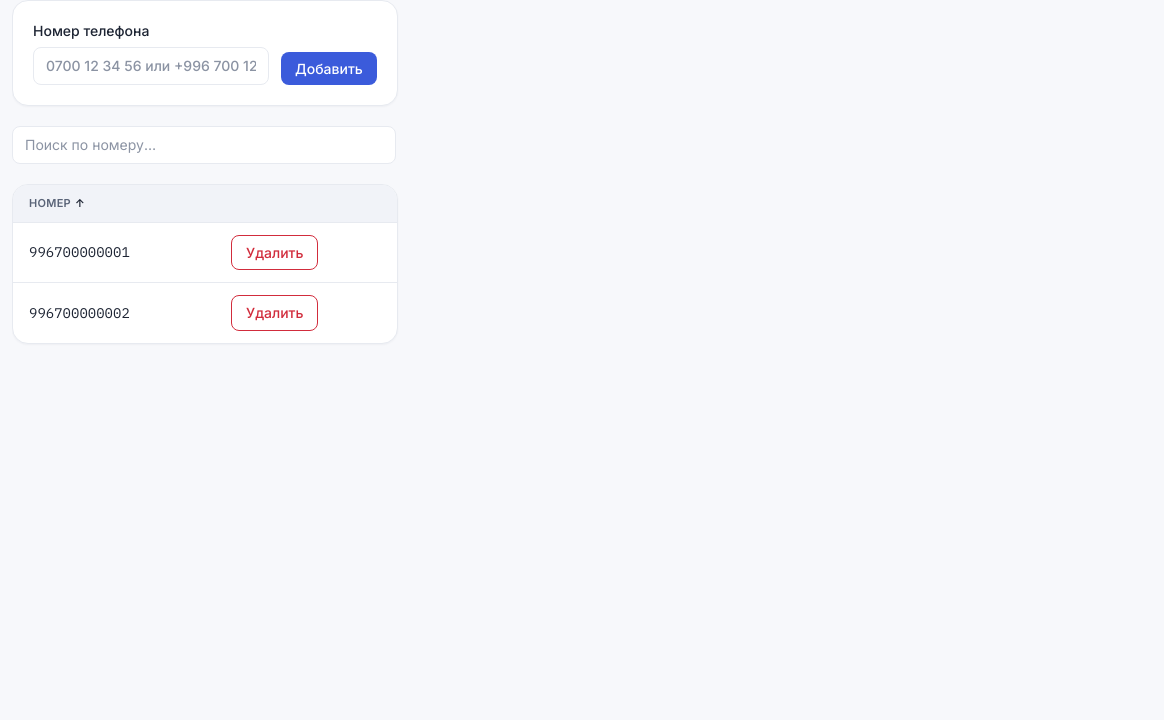
Test: shows an error and does not clear the input when adding fails
Type "996700000003" into the field labelled "Номер телефона" at (151, 66), box top-left (33, 47), bottom-right (269, 85)
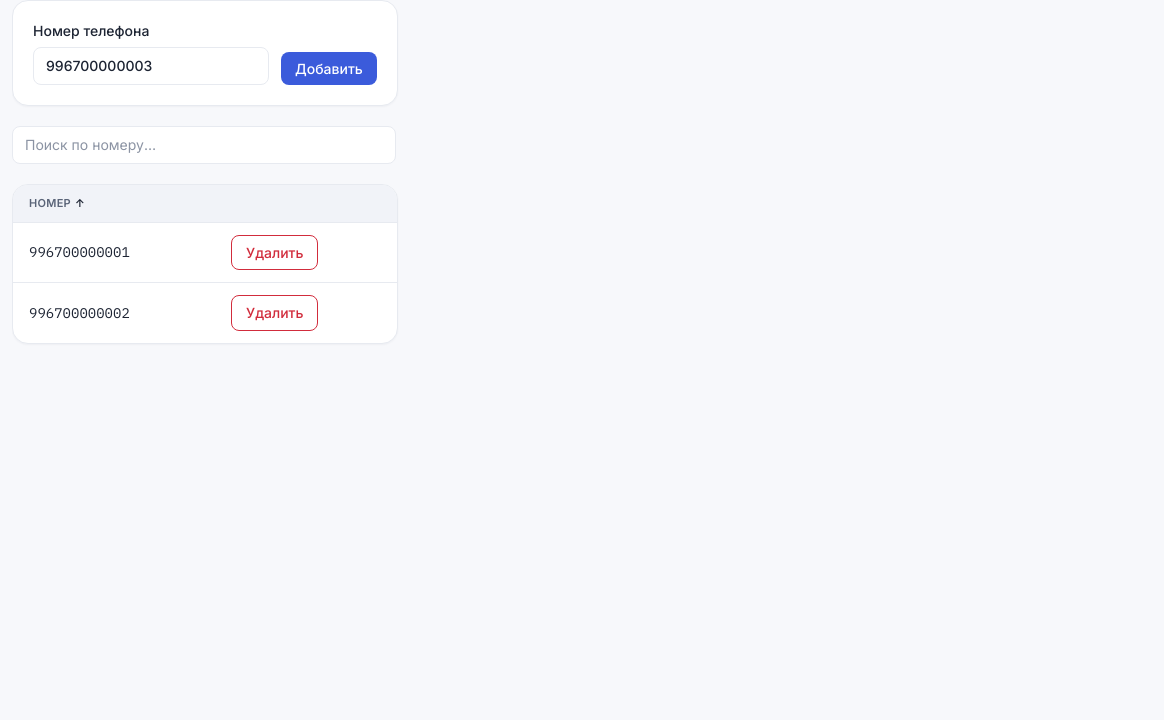
Click the button "Добавить" at (329, 68), box top-left (281, 52), bottom-right (377, 85)
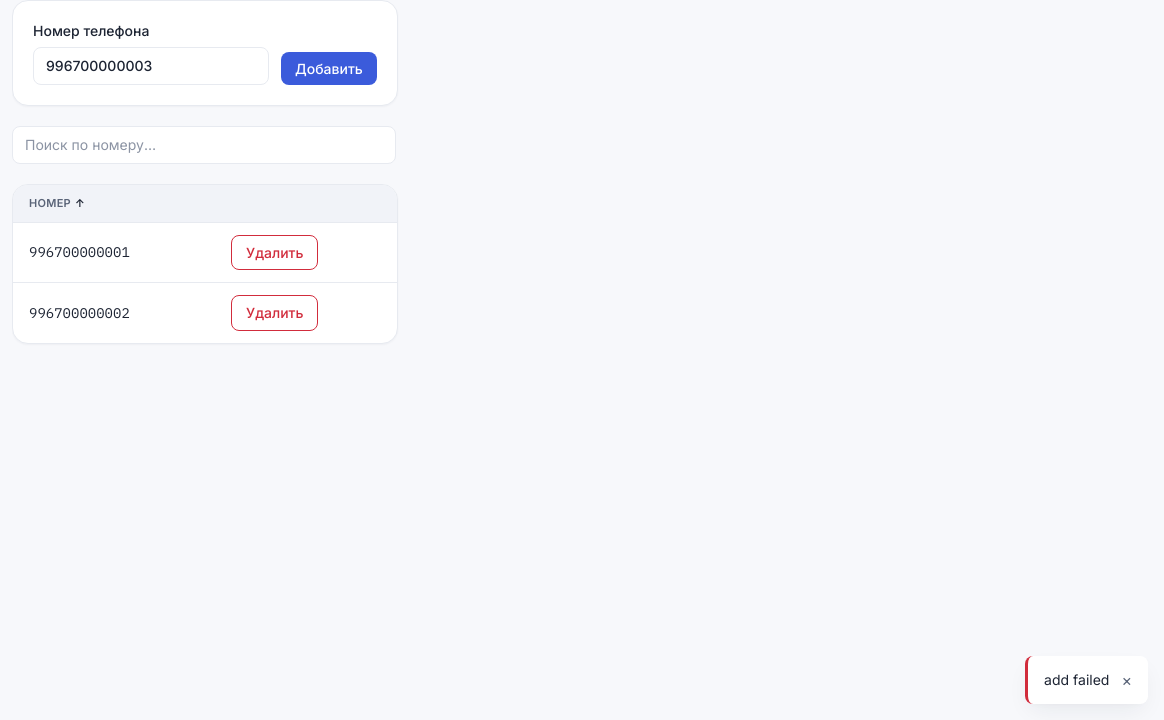
Expected: the message shows "add failed", top-left (1044, 671), bottom-right (1109, 688)
